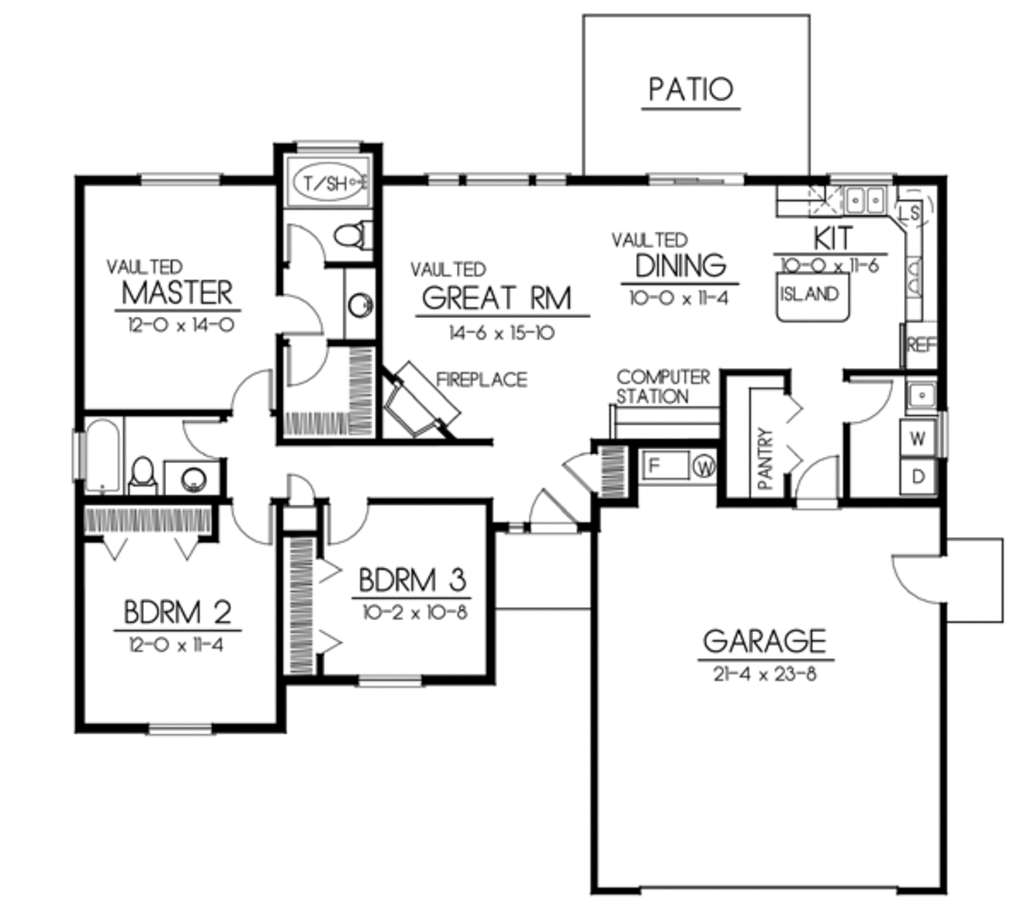door: (891, 546, 961, 617), (795, 449, 853, 518), (554, 442, 611, 510), (274, 214, 336, 269), (835, 370, 894, 427), (263, 291, 332, 338), (220, 497, 278, 551), (523, 487, 578, 536), (323, 500, 374, 552), (281, 335, 330, 389), (222, 367, 277, 414), (173, 417, 228, 460)
large_sink: (326, 207, 387, 262), (123, 448, 163, 501)
sink: (905, 377, 944, 417)
small_sink: (340, 273, 377, 339), (168, 456, 220, 493)
tub: (90, 414, 126, 501)
twin_sink: (832, 176, 898, 218)
window: (413, 159, 567, 191), (126, 160, 228, 194), (644, 166, 749, 186), (149, 715, 213, 743), (351, 666, 428, 689), (67, 425, 90, 493)
